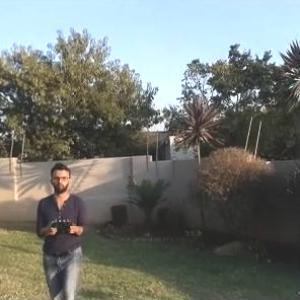follow: (36, 159, 91, 299)
